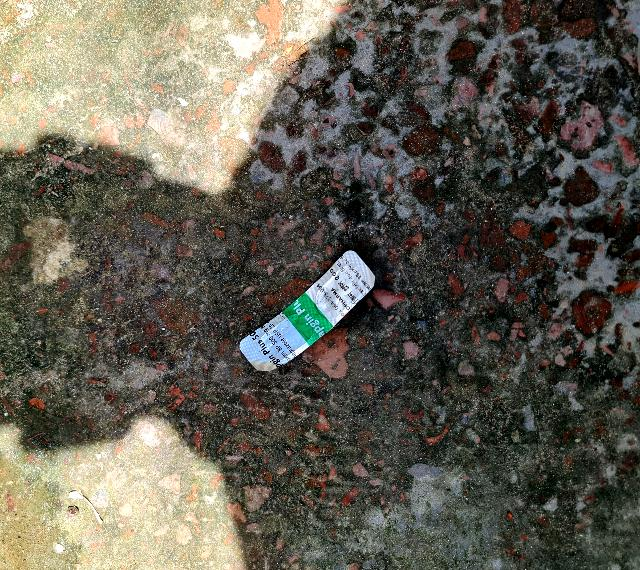medicine: (223, 235, 394, 386)
